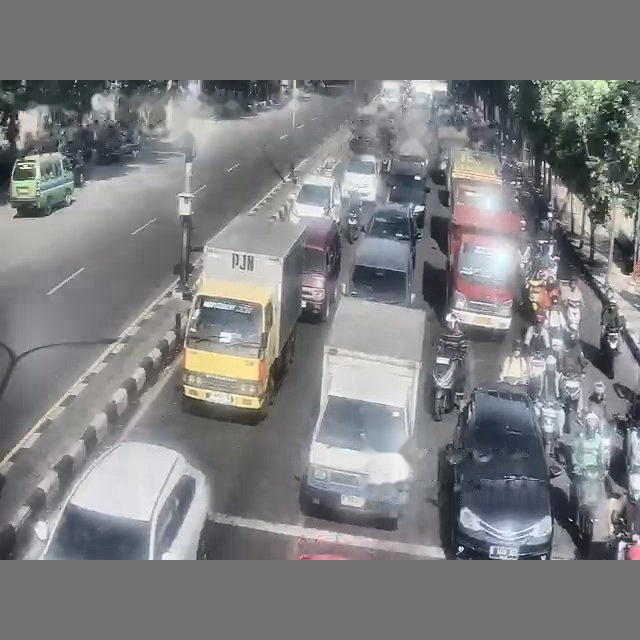Mobil: (35, 441, 211, 559), (441, 389, 553, 559), (342, 236, 415, 306), (362, 203, 421, 267), (385, 158, 430, 228), (294, 171, 341, 221), (342, 154, 381, 202), (59, 144, 85, 186)
Motor: (572, 466, 608, 552), (432, 351, 463, 421), (538, 401, 563, 458), (562, 372, 582, 432), (601, 327, 620, 378), (566, 300, 580, 337)
Truk: (300, 297, 425, 528), (182, 215, 305, 420), (441, 148, 520, 335)
